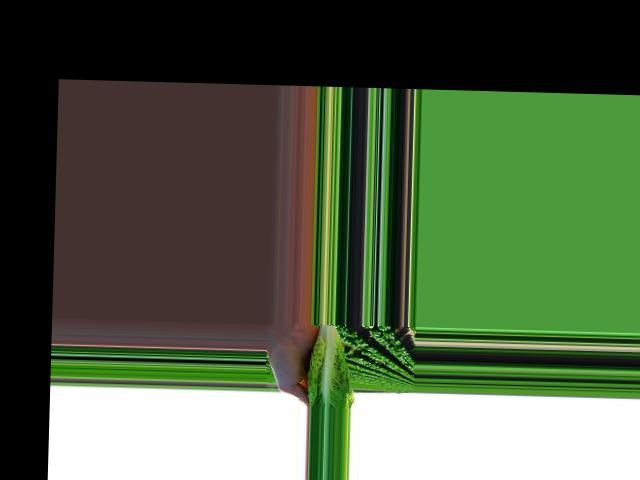lettuce: (307, 323, 353, 406)
